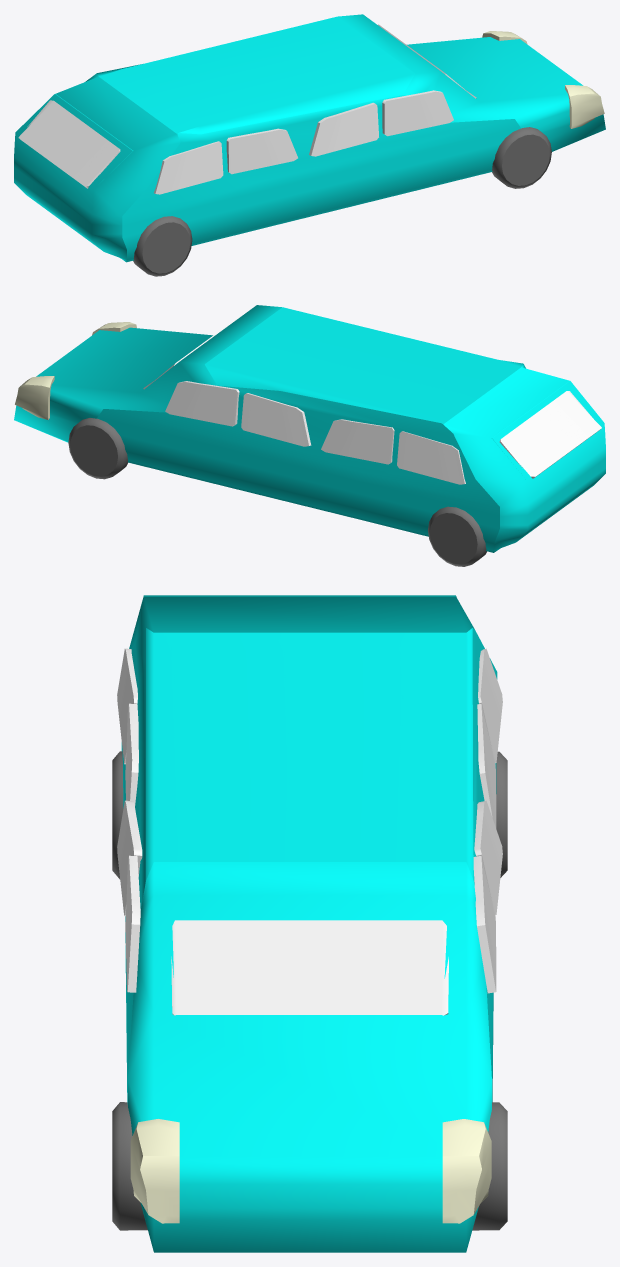
The model's file is CarroAzul.fbx.
The picture shows the model from 3 angles, top to bottom: view 1: azimuth 30°, elevation 25°; view 2: azimuth 150°, elevation 25°; view 3: azimuth 270°, elevation 25°; orthographic projection. The views are drawn at different scales.
Visible parts, largest first — view 1: pCube1, pCube10, pCylinder1, pCylinder2, pCube13, pCube8, pasted__pCube8, pasted__pCube13, pCube9; view 2: pCube1, pCube10, pCylinder3, pCylinder4, pasted__pCube12, pCube14, pasted__pasted__pCube12, pasted__pCube14, pCube9; view 3: pCube1, pCube6, pCube9, pCylinder1, pCylinder3, pasted__pCube12, pCube14, pCube8, pasted__pCube14, pCube13, pasted__pasted__pCube12, pasted__pCube13 (+3 smaller).
Boxes of the visible parts, <box> form: pCube1: <box>14,14,605,262</box>; pCube10: <box>18,100,120,188</box>; pCylinder1: <box>492,127,551,188</box>; pCylinder2: <box>133,216,192,276</box>; pCube13: <box>309,102,378,156</box>; pCube8: <box>382,90,453,136</box>; pasted__pCube8: <box>226,128,297,174</box>; pasted__pCube13: <box>154,141,223,194</box>; pCube9: <box>482,31,604,128</box>; pCube1: <box>14,305,605,552</box>; pCube10: <box>499,391,601,478</box>; pCylinder3: <box>68,418,127,479</box>; pCylinder4: <box>428,506,486,566</box>; pasted__pCube12: <box>165,381,239,426</box>; pCube14: <box>241,393,311,446</box>; pasted__pasted__pCube12: <box>321,419,394,464</box>; pasted__pCube14: <box>397,431,465,484</box>; pCube9: <box>15,322,136,419</box>; pCube1: <box>121,595,497,1252</box>; pCube6: <box>171,920,448,1015</box>; pCube9: <box>130,1119,491,1223</box>; pCylinder1: <box>112,1102,147,1230</box>; pCylinder3: <box>472,1102,507,1230</box>; pasted__pCube12: <box>473,856,496,993</box>; pCube14: <box>474,800,502,915</box>; pCube8: <box>125,855,140,992</box>; pasted__pCube14: <box>478,648,502,763</box>; pCube13: <box>117,800,142,916</box>; pasted__pasted__pCube12: <box>477,704,496,828</box>; pasted__pCube13: <box>117,648,137,764</box>.
Size of the model in its own units: 33.37 by 8.24 by 11.09.
